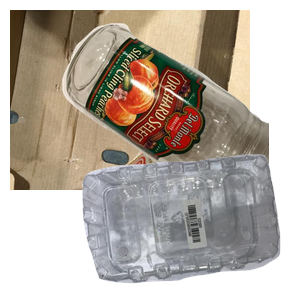cardboard: (10, 10, 250, 190)
glass: (60, 21, 300, 201)
plastic: (80, 152, 300, 300)
trash: (90, 129, 295, 300)
